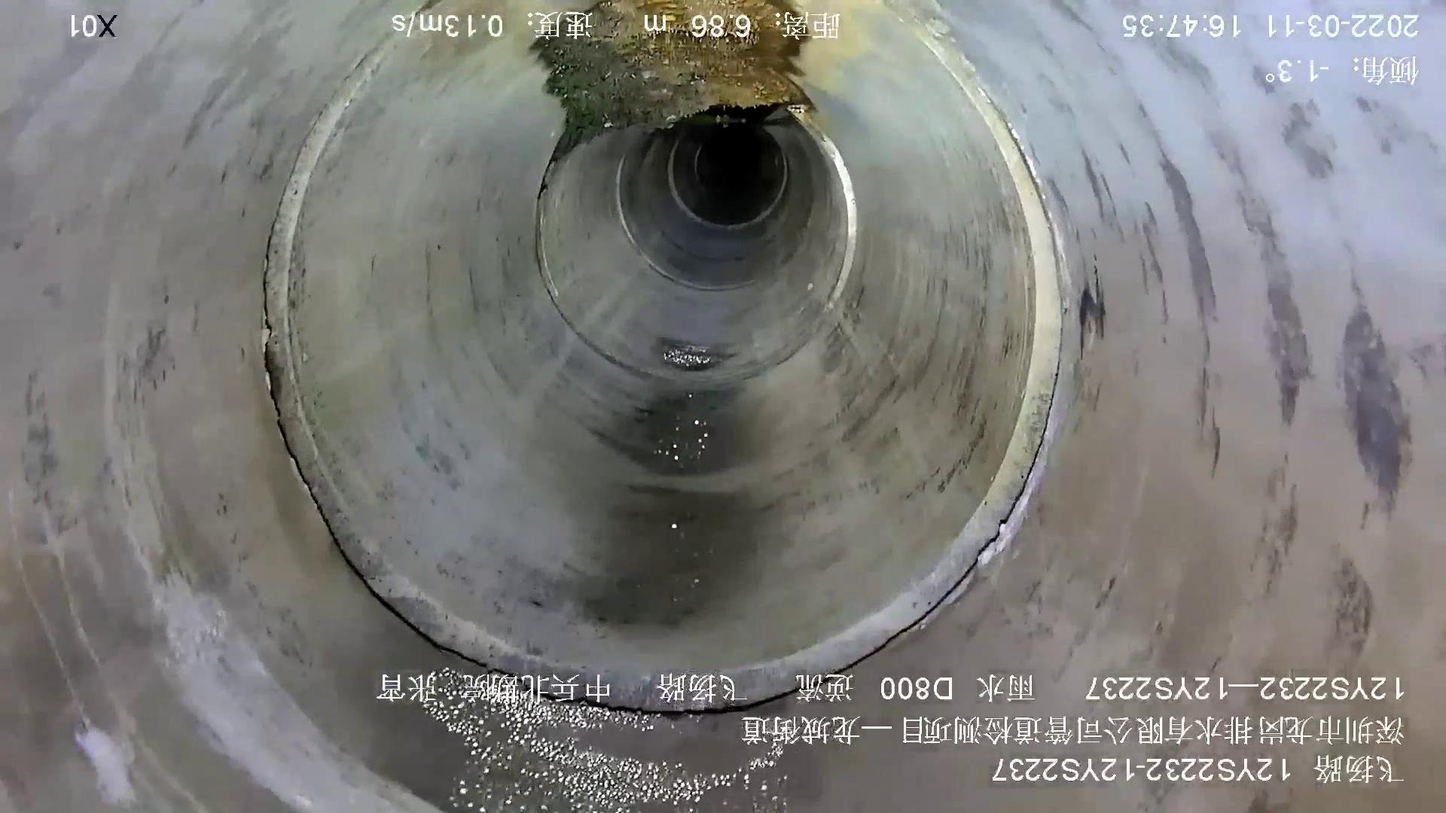CJ: (529, 1, 810, 141)
CKTJ: (261, 38, 1066, 712), (790, 105, 858, 312), (535, 181, 565, 315), (544, 159, 568, 179)
